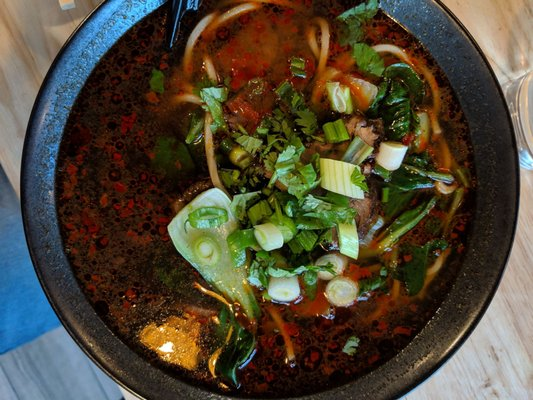sushi: (38, 0, 528, 398)
